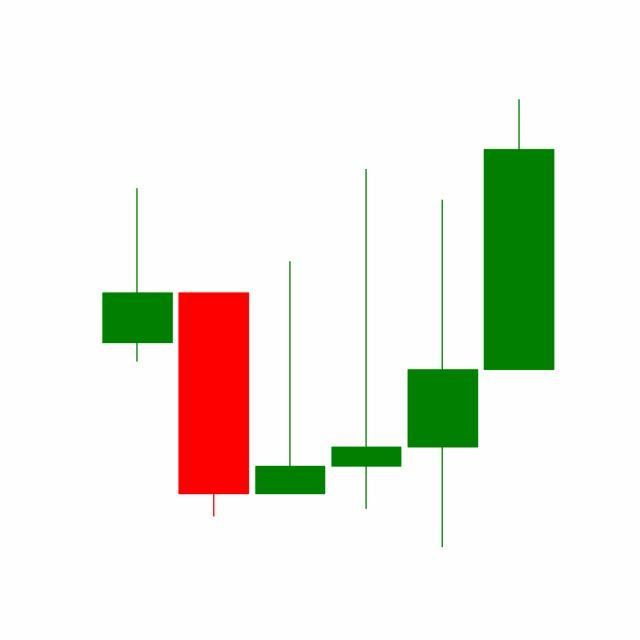Spinning Top: (404, 196, 482, 552)
